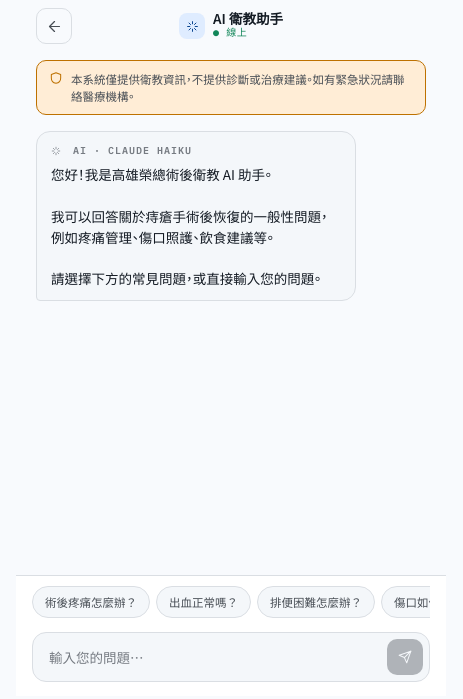
Test: AIChat Page › sends message via send button click
Type "傷口怎麼照護？" into the field with placeholder "輸入您的問題…".
click(213, 657); type("傷口怎麼照護？")  # box top-left (47, 639), bottom-right (379, 675)
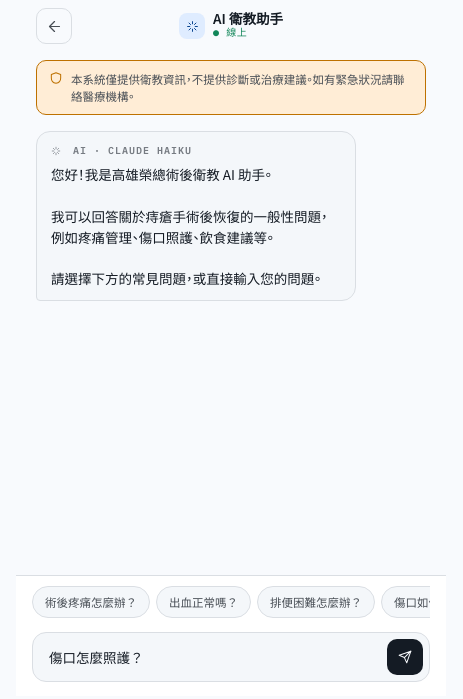
Click the button with class "chat-send".
click(405, 657)  # box top-left (387, 639), bottom-right (423, 675)
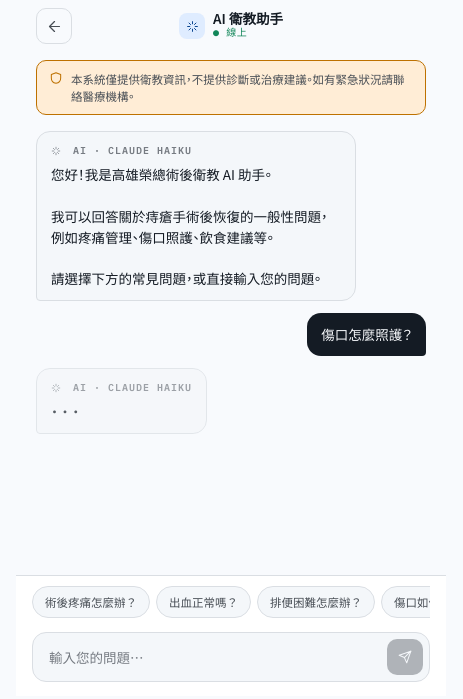
Check: the text "傷口怎麼照護？" is shown, box top-left (307, 313), bottom-right (426, 356)
